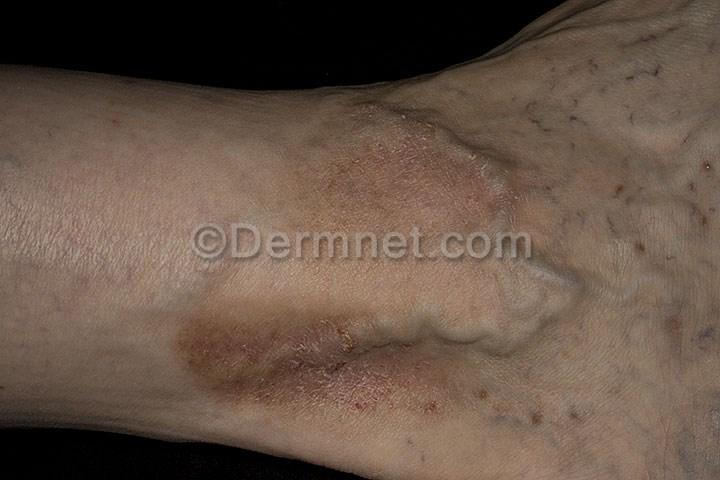Eczema: (169, 278, 392, 452), (302, 78, 530, 232), (395, 340, 578, 462)
